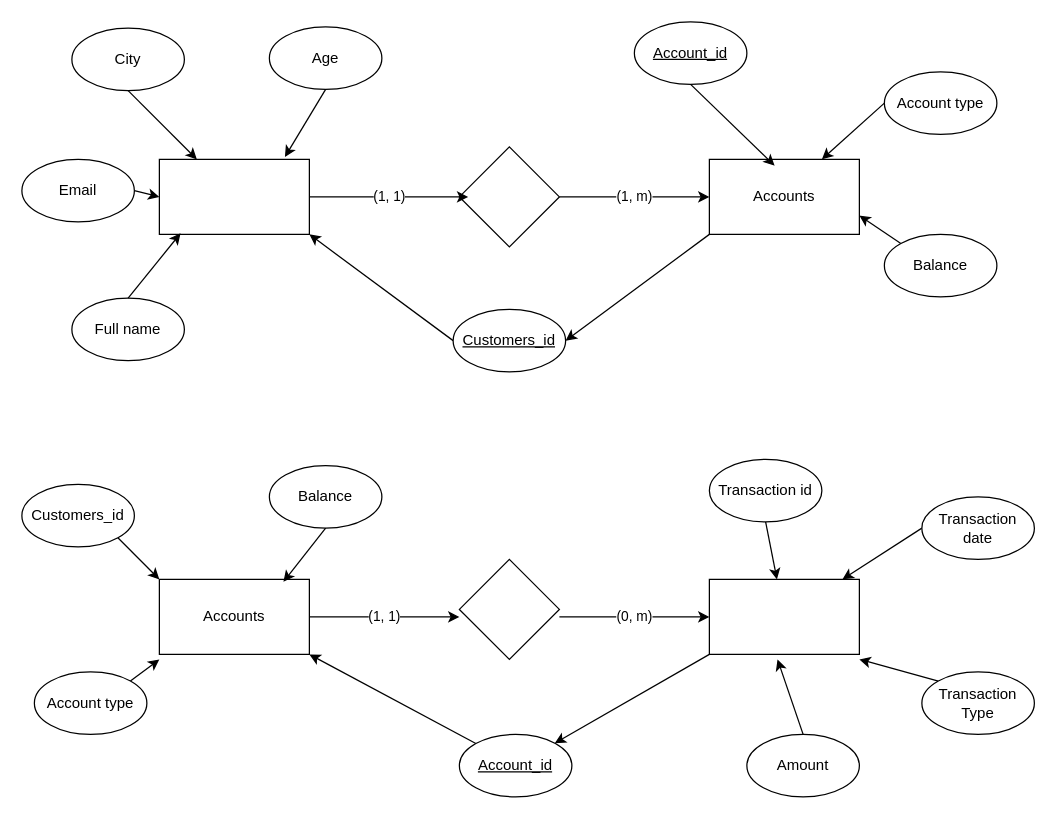
This 1056x819 diagram has some shape labels left out. Here are the shapes that lost their labels. From the top down, the box of each, then its label:
(158, 158, 309, 234): Customers
(458, 146, 559, 247): Will have
(458, 558, 559, 659): Will make
(708, 578, 859, 654): Transactions
